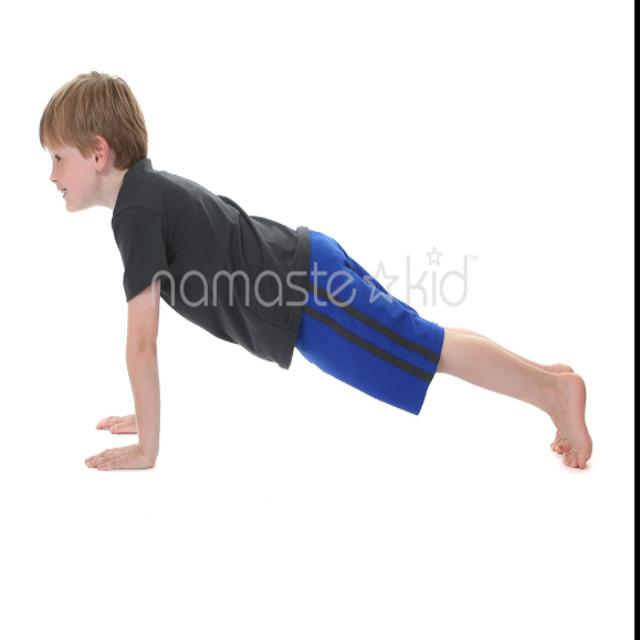Plank_Pose: (34, 62, 604, 484)
